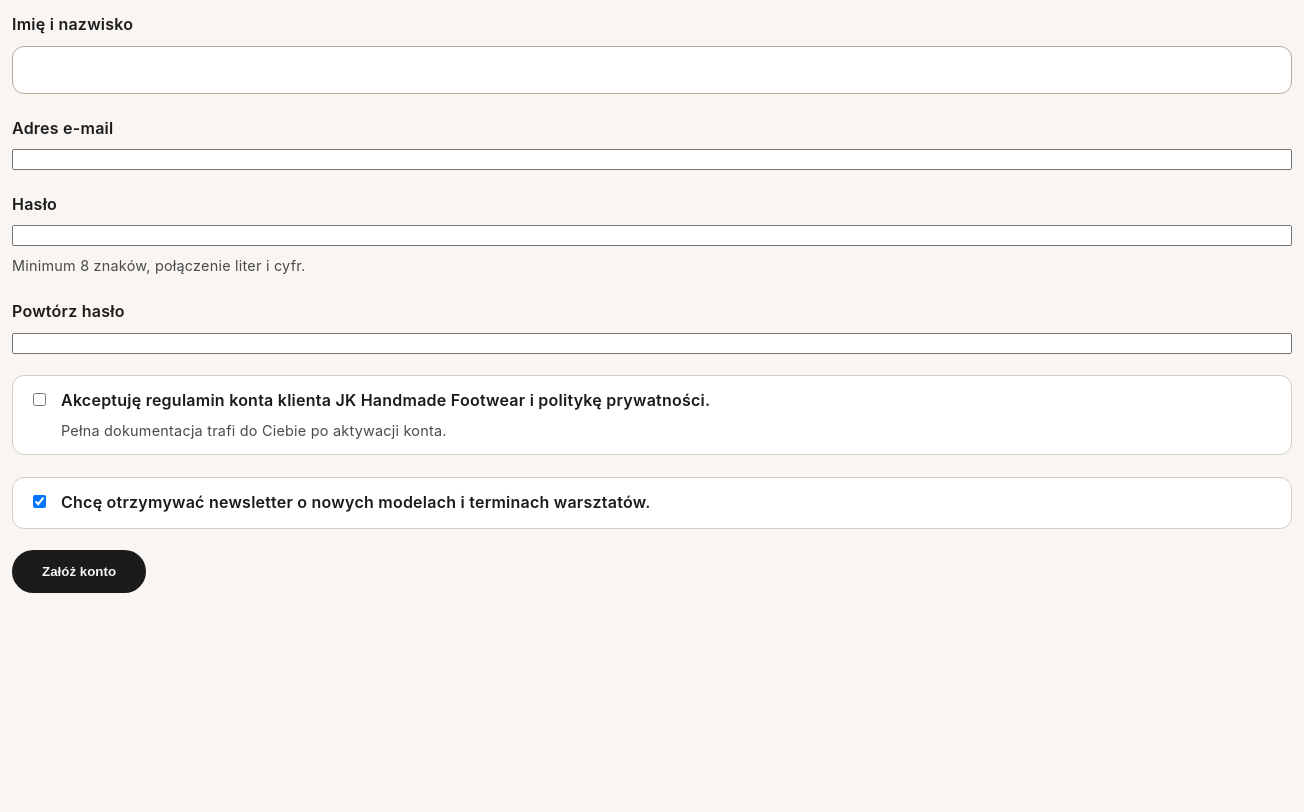
Scenario: AccountRegisterForm › prevents submission when passwords differ
Type "Jan Kowalski" into the field labelled "Imię i nazwisko". click: (652, 70)
box: [12, 46, 1292, 94]
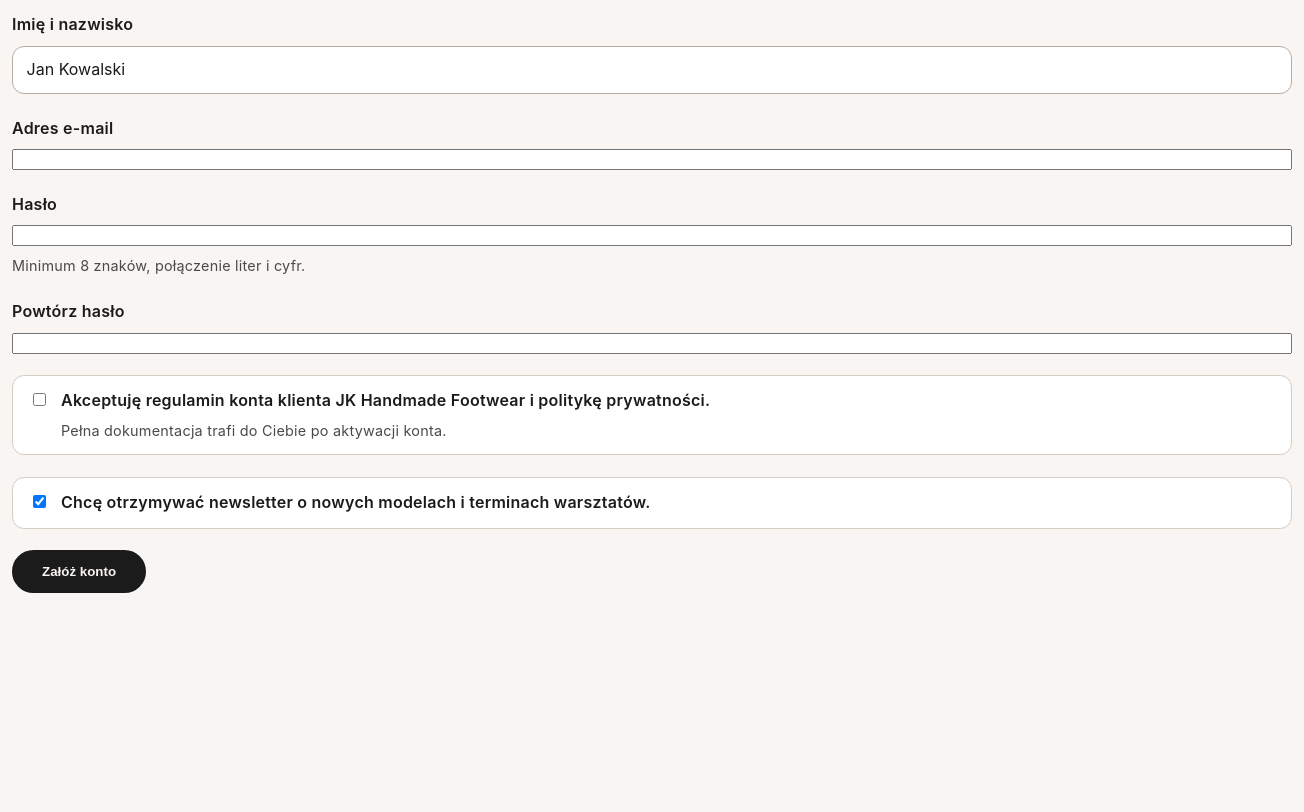
Type "jan@example.com" into the field labelled "Adres e-mail". click: (652, 160)
box: [12, 149, 1292, 170]
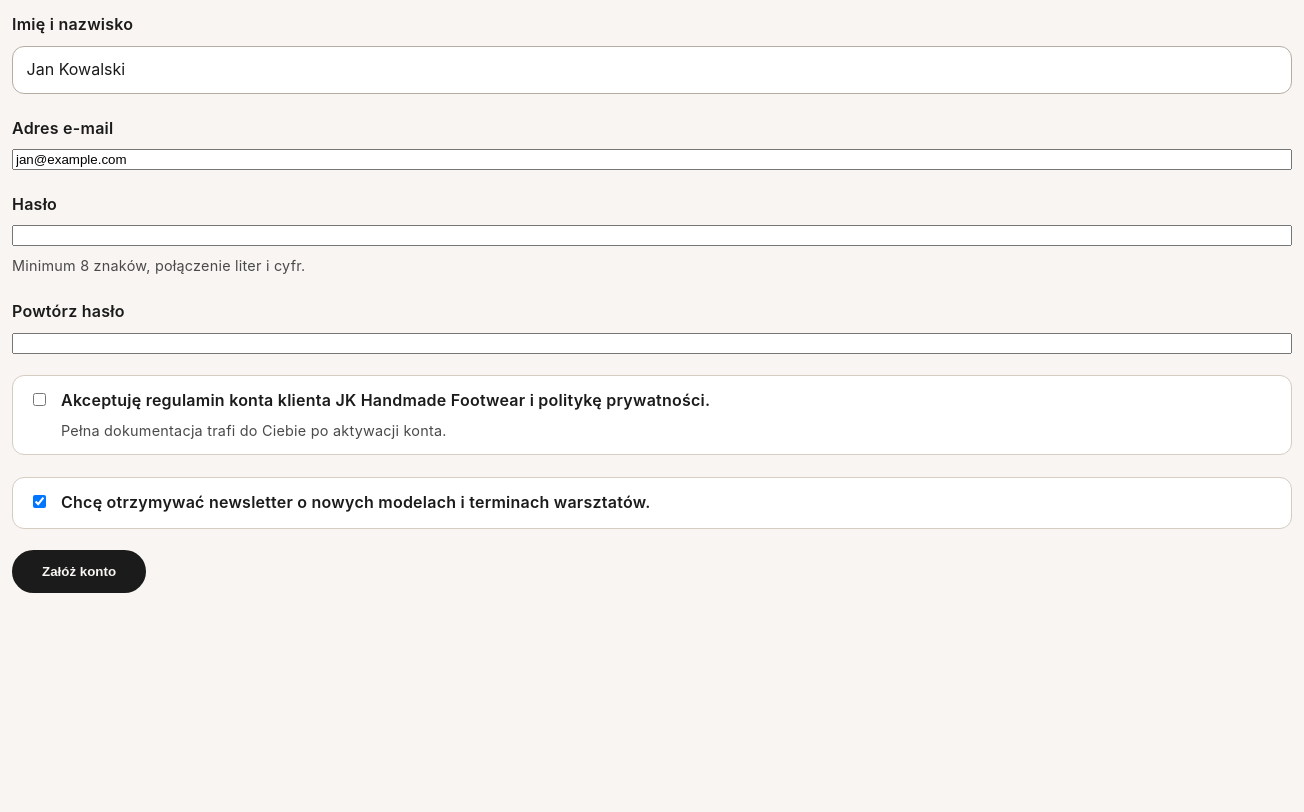
Type "silnehaslo" into the password field labelled "Hasło". click: (652, 236)
box: [12, 225, 1292, 246]
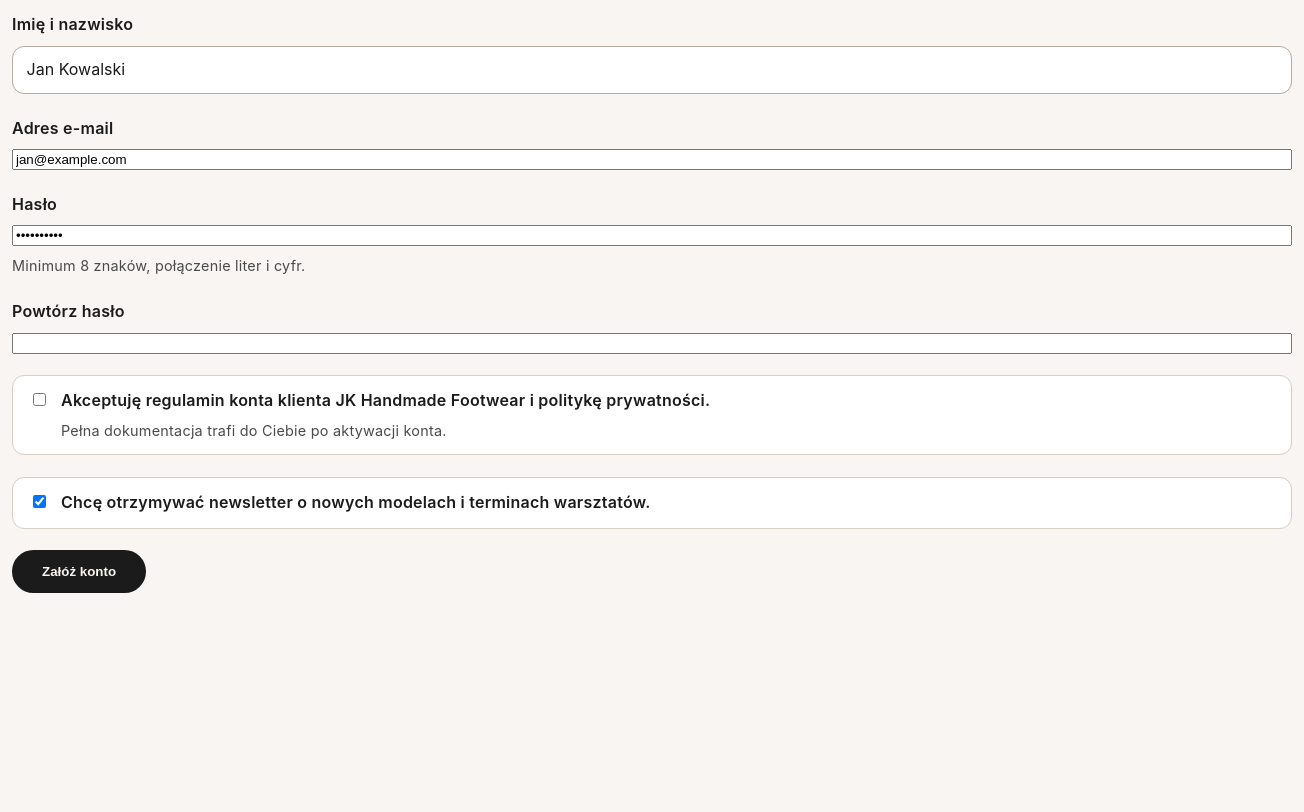
Type "innehaslo" into the password field labelled "Powtórz hasło". click: (652, 343)
box: [12, 333, 1292, 354]
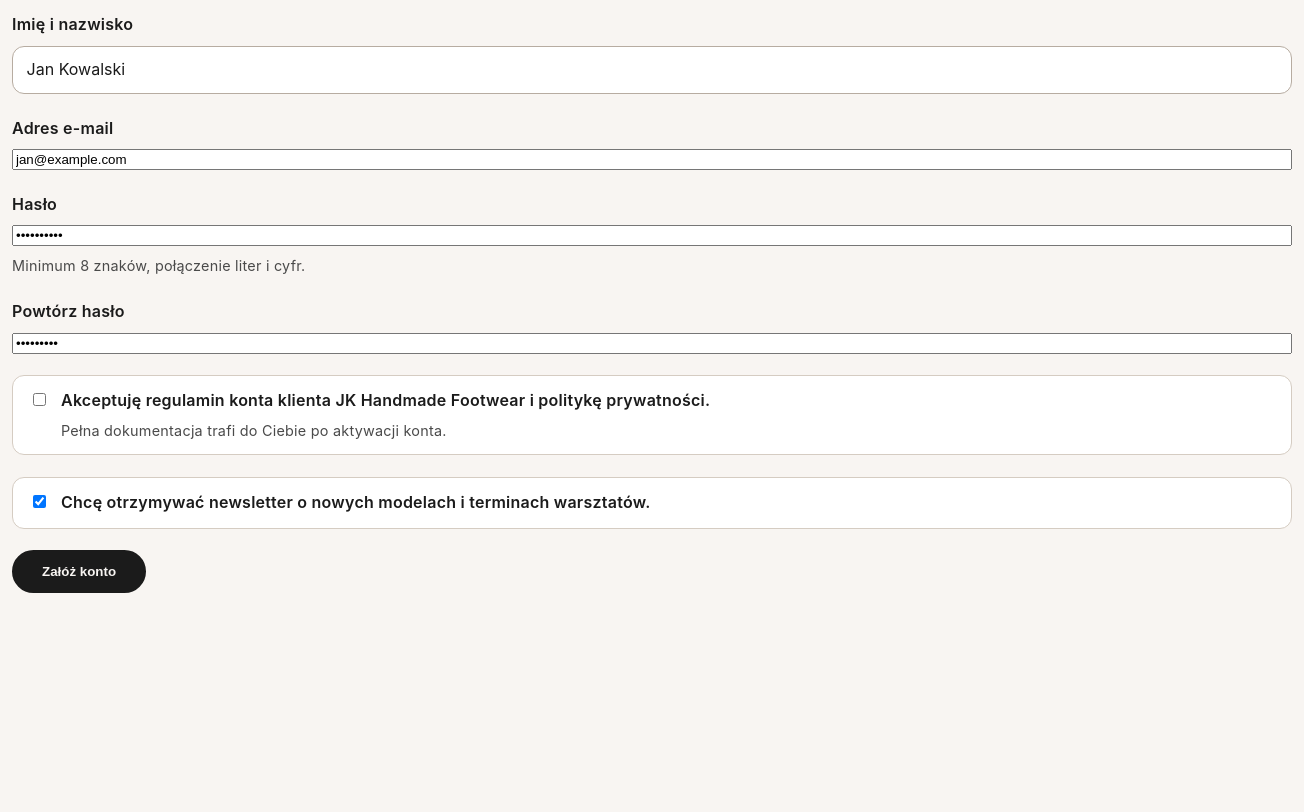
Click the checkbox labelled "Akceptuję regulamin konta". click: click(40, 400)
box: [33, 393, 46, 406]
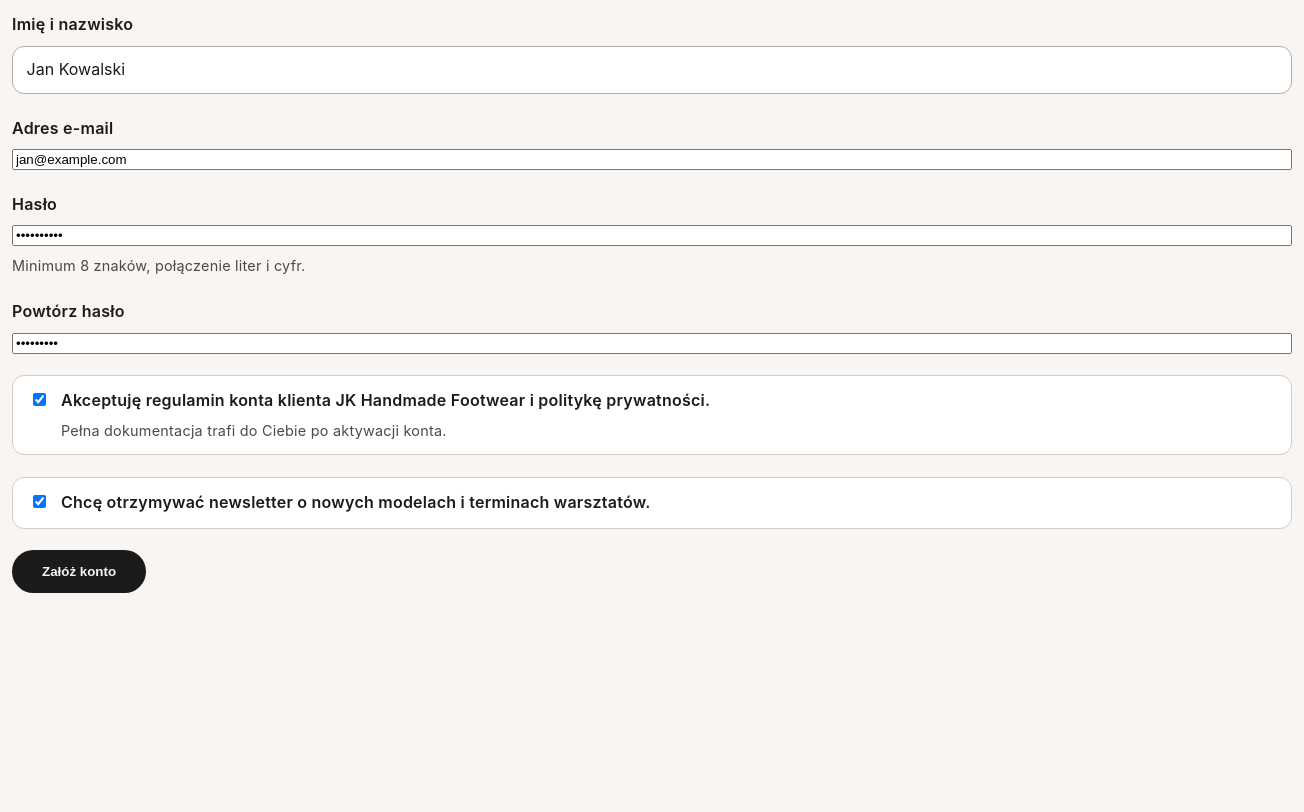
Click the button "Załóż konto". click: click(79, 572)
box: [12, 550, 146, 593]
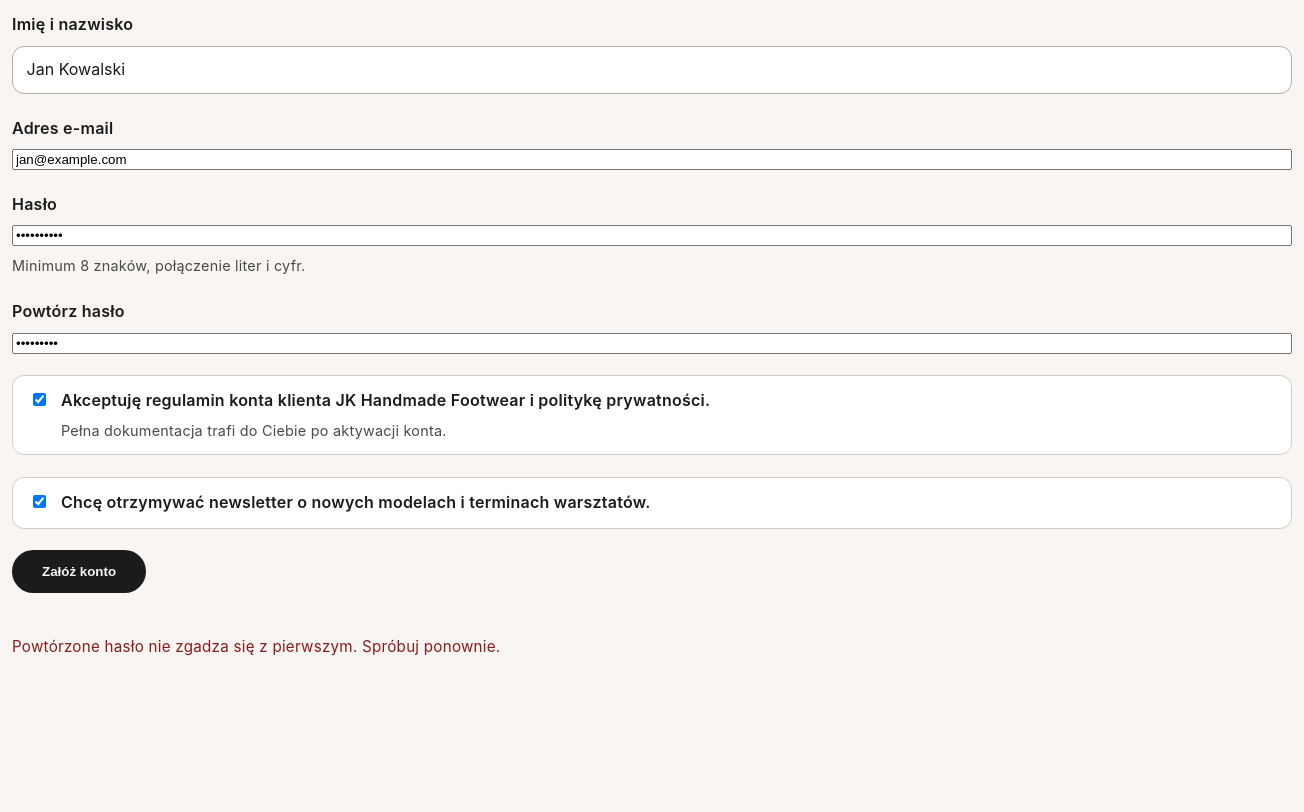
Result: the text "Powtórzone hasło nie zgadza się z pierwszym. Spróbuj ponownie." is shown at [12, 637, 500, 656]
